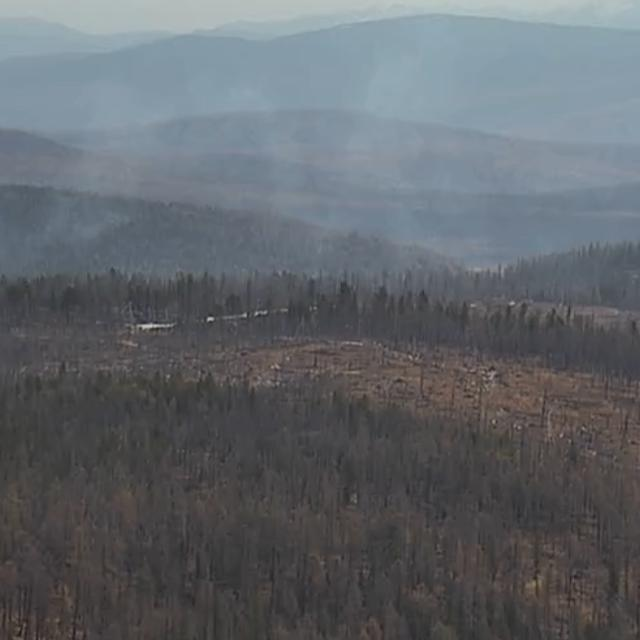Smoke: (0, 57, 640, 337)
